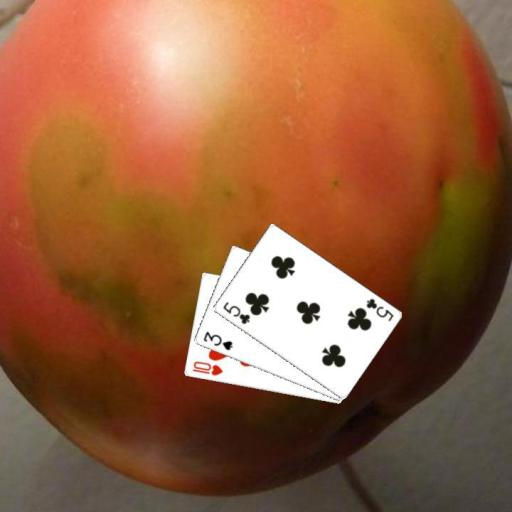10H: (189, 359, 224, 378)
3S: (200, 329, 234, 352)
5C: (363, 295, 395, 323), (219, 299, 251, 326)
